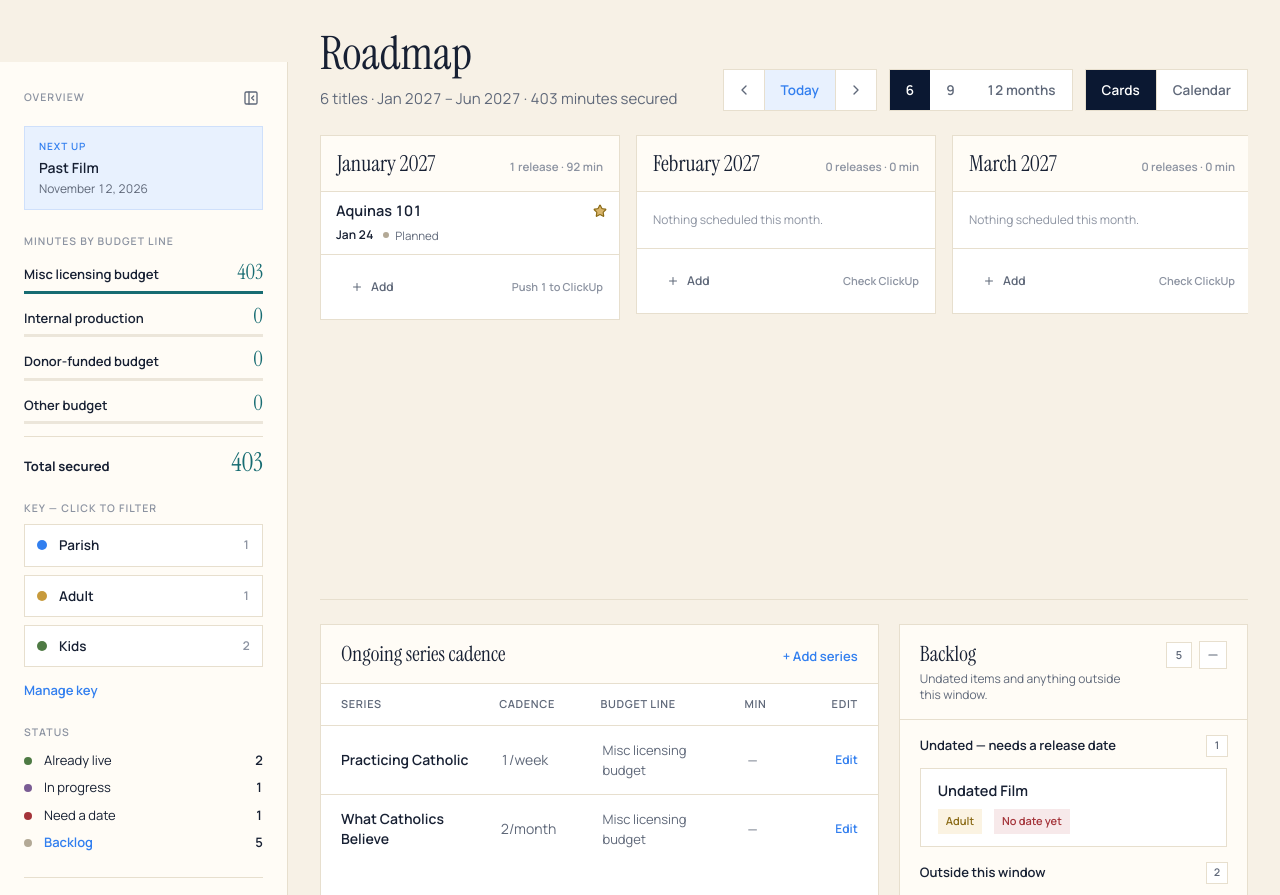
RoadmapDashboard › carries the active filters into present mode
Step 1. Click the button with aria-label "Filter Parish" → {"x": 144, "y": 545}, box x1=24 y1=524 x2=263 y2=567
(page scrolled)
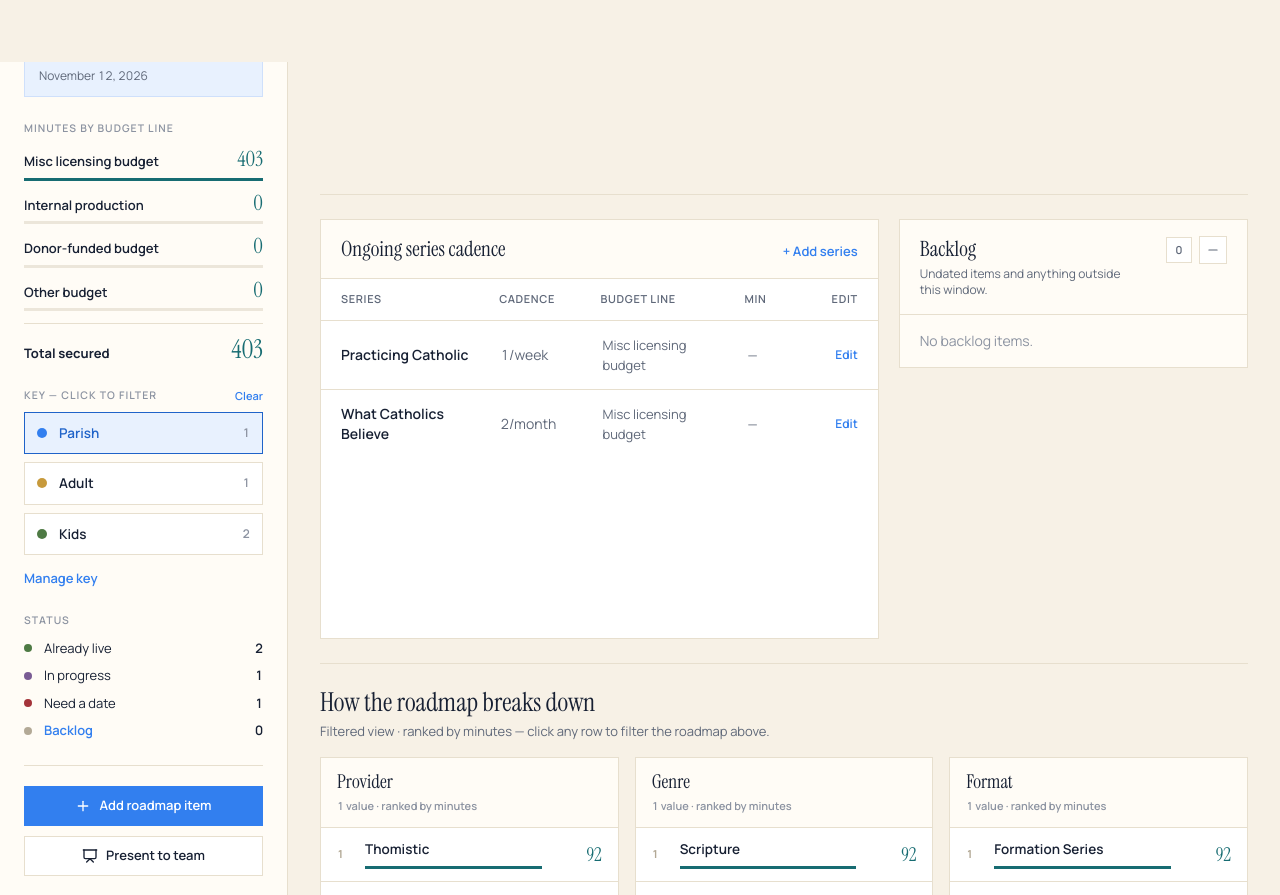
Step 2. Click the button "Present to team" → {"x": 144, "y": 856}, box x1=24 y1=836 x2=263 y2=876
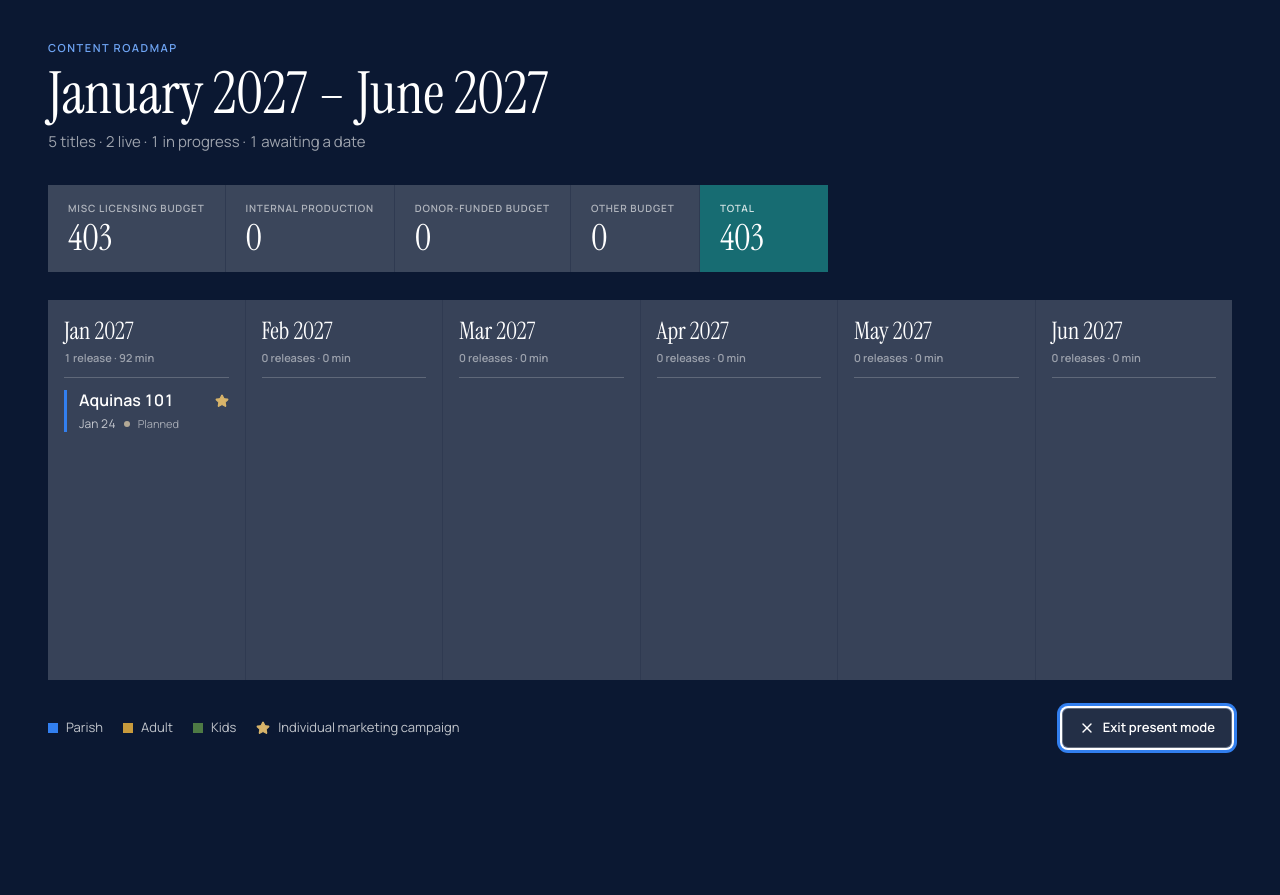
Check: the button "Undated Film" is not shown
Check: the text "Aquinas 101" is shown, box x1=79 y1=388 x2=174 y2=410
